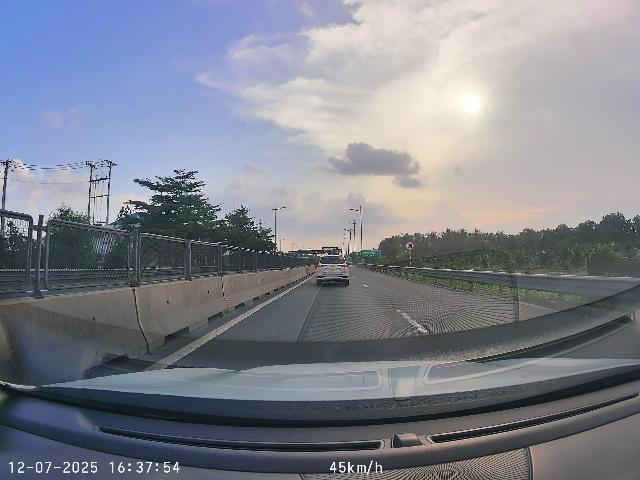127-toc-do-toi-da-60: (405, 241, 415, 251)
